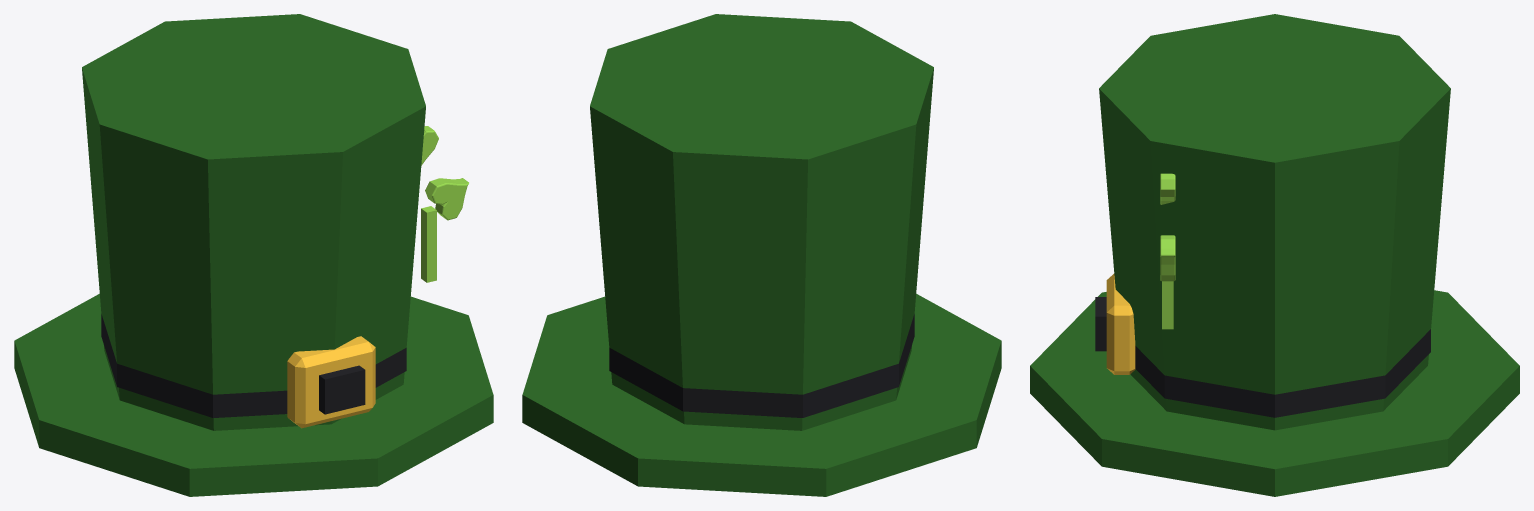
The model's file is LeprechaunHat.fbx.
The picture shows the model from 3 angles, left to right: view 1: azimuth 30°, elevation 25°; view 2: azimuth 150°, elevation 25°; view 3: azimuth 270°, elevation 25°; orthographic projection.
Parts seen in each view (by area): view 1: LeprechaunHat; view 2: LeprechaunHat; view 3: LeprechaunHat.
Boxes of the visible parts, box(x1,y1,x2,y2) form: LeprechaunHat: box(14, 14, 493, 496); LeprechaunHat: box(522, 14, 1001, 496); LeprechaunHat: box(1030, 14, 1519, 496).
Bounding box in the file's own units: 3.2 × 2.2 × 3.2.
1 material, 1 textured.
